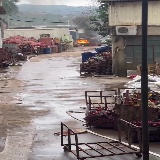fire: (76, 40, 89, 43)
